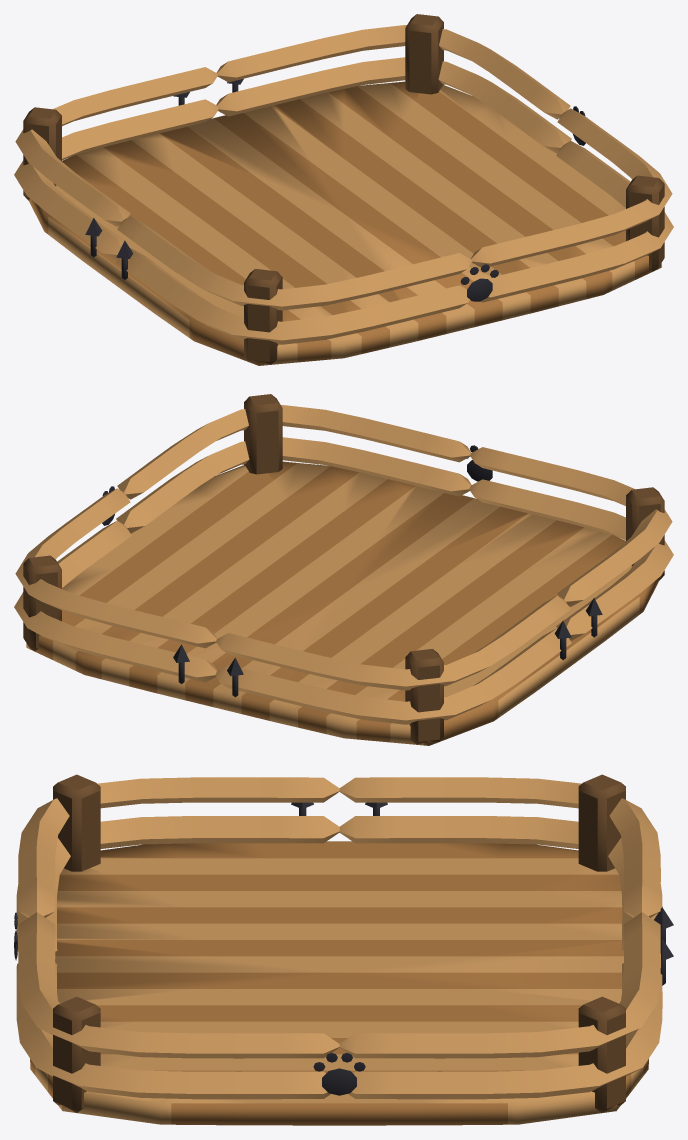
Rendered from R02_ZooCrate.fbx.
The picture shows the model from 3 angles, top to bottom: view 1: azimuth 30°, elevation 25°; view 2: azimuth 150°, elevation 25°; view 3: azimuth 270°, elevation 25°; orthographic projection. The views are drawn at different scales.
Parts seen in each view (by area): view 1: Raft_Floor, Chamber_0_NE, Chamber_3_SO, Chamber_2_SE, Chamber_1_NO; view 2: Raft_Floor, Chamber_2_SE, Chamber_1_NO, Chamber_0_NE, Chamber_3_SO; view 3: Raft_Floor, Chamber_1_NO, Chamber_3_SO, Chamber_2_SE, Chamber_0_NE.
Boxes of the visible parts, <box> form: Raft_Floor: <box>29,81,661,365</box>; Chamber_0_NE: <box>85,216,498,364</box>; Chamber_3_SO: <box>173,14,571,153</box>; Chamber_2_SE: <box>14,67,243,280</box>; Chamber_1_NO: <box>470,106,673,302</box>; Raft_Floor: <box>26,461,658,745</box>; Chamber_2_SE: <box>173,596,602,744</box>; Chamber_1_NO: <box>102,394,471,533</box>; Chamber_0_NE: <box>467,445,673,660</box>; Chamber_3_SO: <box>14,488,243,697</box>; Raft_Floor: <box>30,841,648,1125</box>; Chamber_1_NO: <box>16,912,365,1112</box>; Chamber_3_SO: <box>339,907,673,1112</box>; Chamber_2_SE: <box>291,774,673,985</box>; Chamber_0_NE: <box>14,774,387,960</box>.
Bounding box in the file's own units: 3.93 × 0.66 × 3.93.
